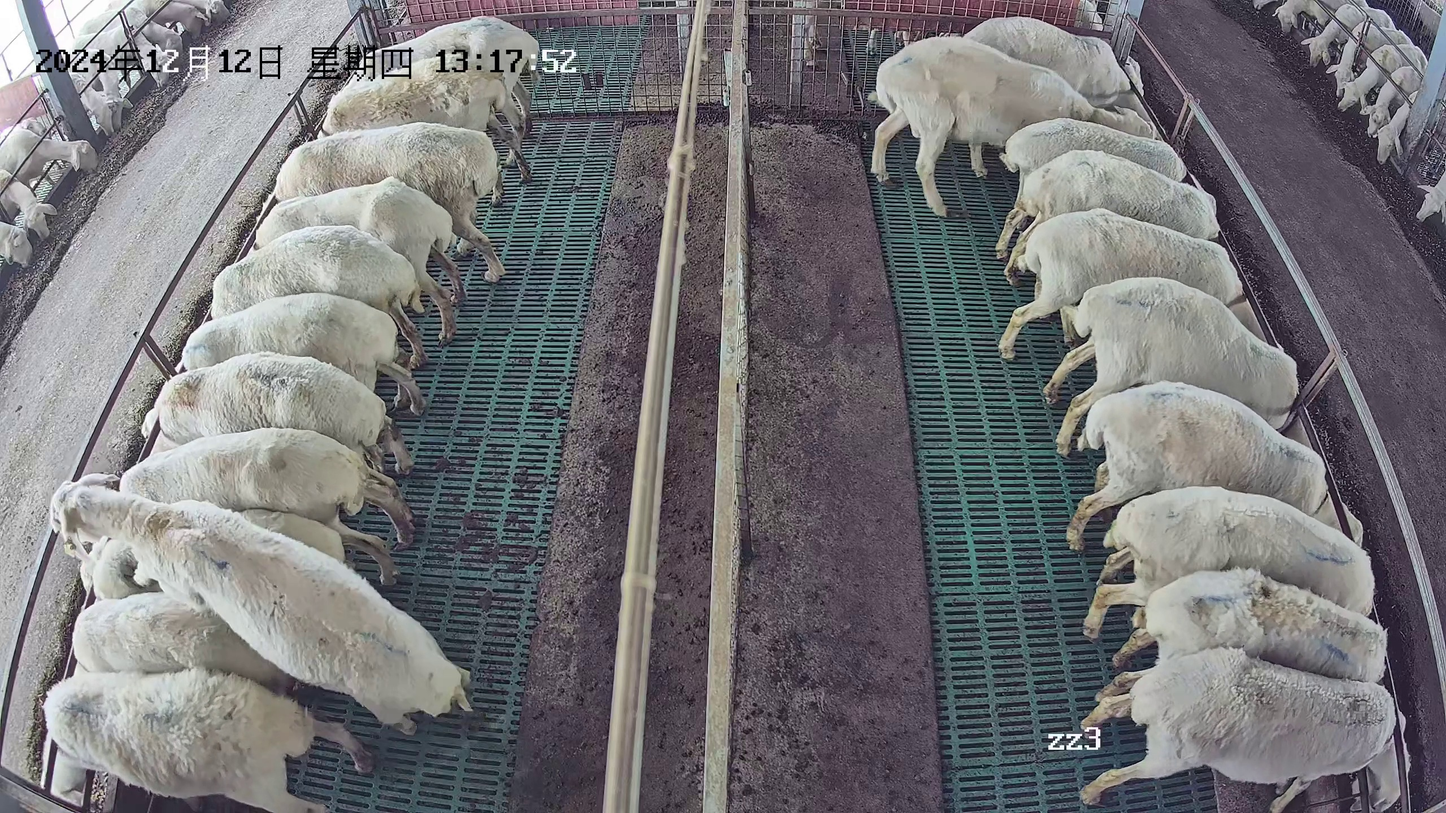Nmounting: (47, 471, 473, 736)
